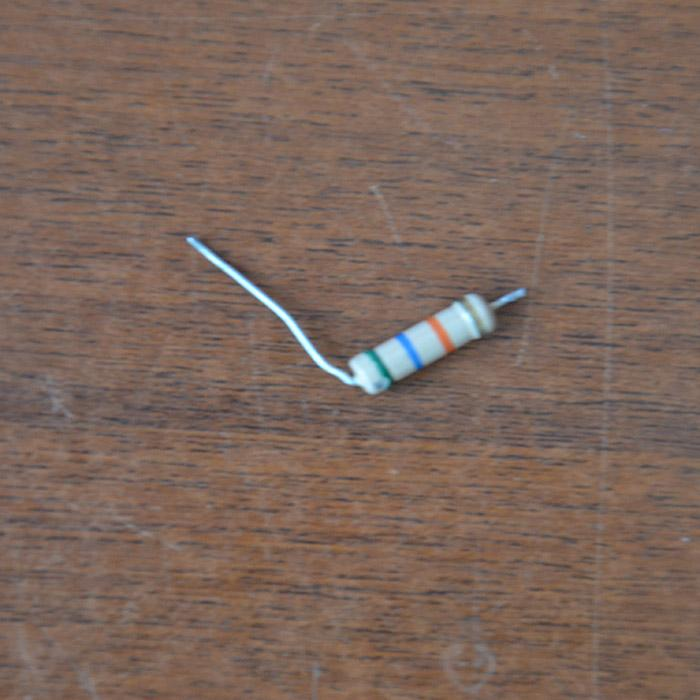resistor: (347, 287, 516, 395)
